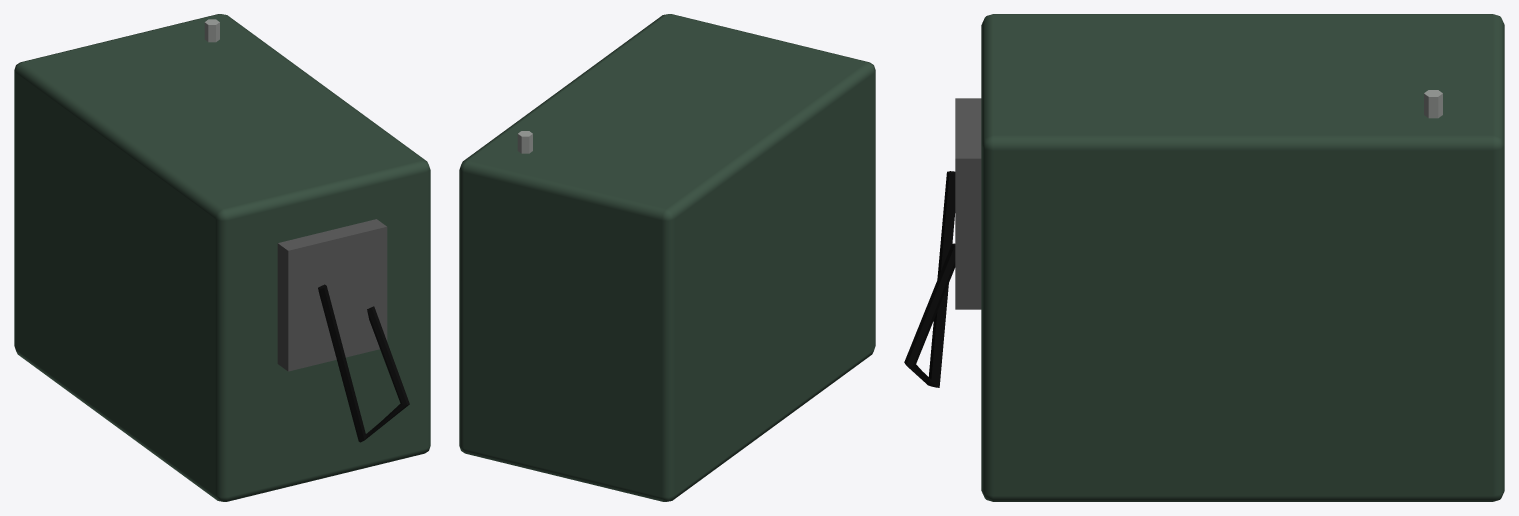
File: farm.yard.diesel_tank.glb
The picture shows the model from 3 angles, left to right: view 1: azimuth 30°, elevation 25°; view 2: azimuth 150°, elevation 25°; view 3: azimuth 270°, elevation 25°; orthographic projection. The views are drawn at different scales.
Visible parts, largest first — view 1: main__enamel_354, main__enamel_555, main__rubber; view 2: main__enamel_354; view 3: main__enamel_354, main__enamel_555, main__rubber.
Boxes of the visible parts, bbox=[...] form: main__enamel_354: bbox=[14, 14, 430, 501]; main__enamel_555: bbox=[277, 219, 387, 371]; main__rubber: bbox=[318, 284, 409, 442]; main__enamel_354: bbox=[459, 14, 875, 501]; main__enamel_354: bbox=[981, 14, 1504, 501]; main__enamel_555: bbox=[955, 98, 981, 309]; main__rubber: bbox=[904, 171, 955, 387].
Size of the model in its own units: 1.3 by 1.8 by 2.52.
